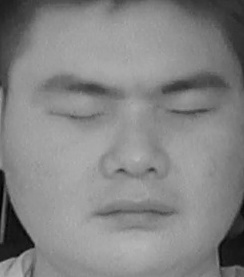blink: (58, 99, 102, 133), (166, 96, 211, 127)
mouth: (93, 187, 178, 236)
